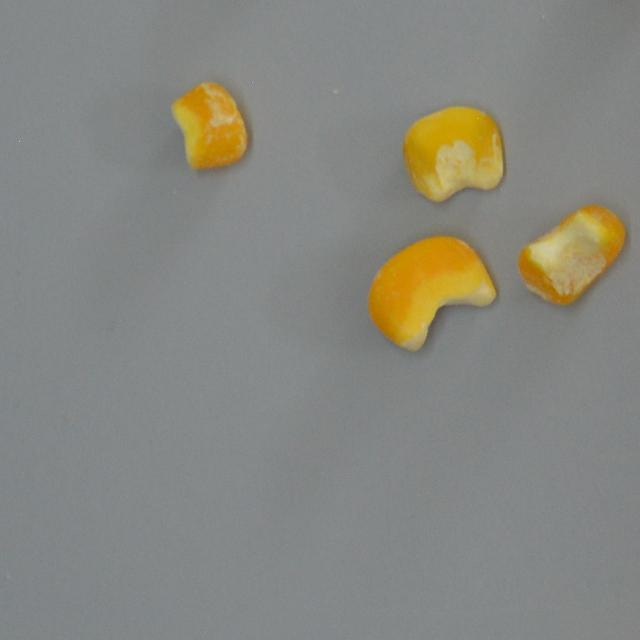dañado: (516, 200, 630, 311), (398, 102, 508, 204), (167, 78, 250, 175)
no_canjicado: (362, 232, 500, 355)
